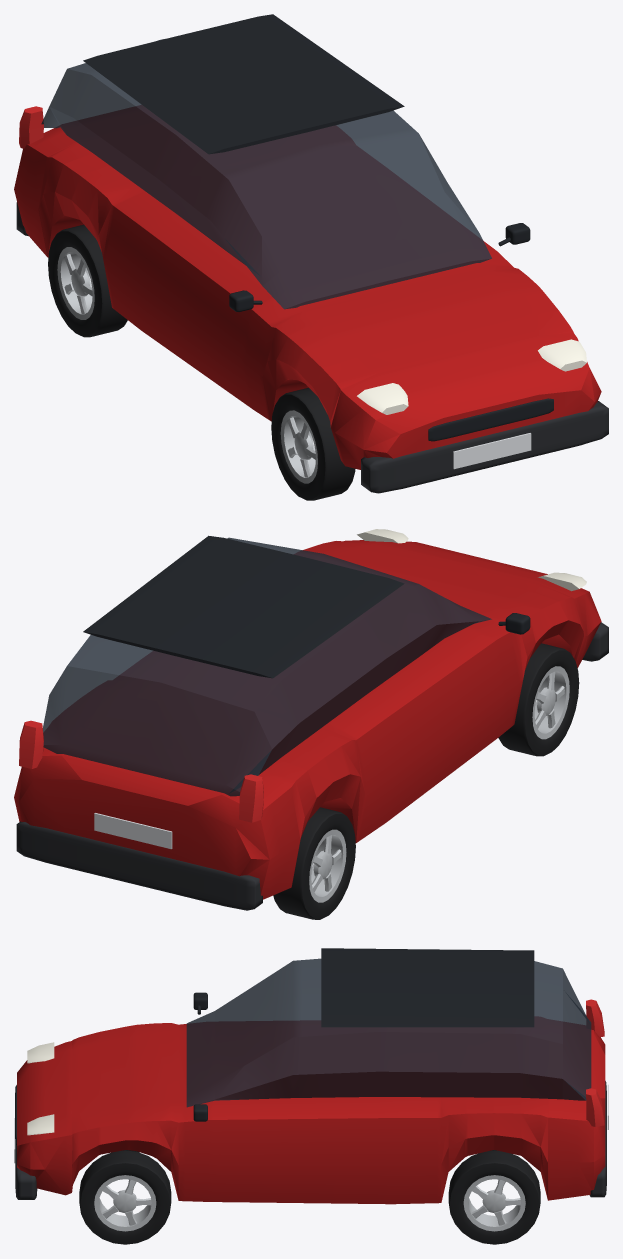
The model's file is car.glb.
The picture shows the model from 3 angles, top to bottom: view 1: azimuth 30°, elevation 25°; view 2: azimuth 150°, elevation 25°; view 3: azimuth 270°, elevation 25°; orthographic projection. The views are drawn at different scales.
Visible parts, largest first — view 1: traveler_car_parked, front_right_wheel, rear_right_wheel; view 2: traveler_car_parked, rear_right_wheel, front_right_wheel; view 3: traveler_car_parked, front_left_wheel, rear_left_wheel.
Boxes of the visible parts, box(x1,y1,x2,y2) form: traveler_car_parked: box(14, 14, 608, 493); front_right_wheel: box(271, 387, 355, 500); rear_right_wheel: box(48, 224, 127, 337); traveler_car_parked: box(14, 529, 608, 910); rear_right_wheel: box(273, 807, 355, 919); front_right_wheel: box(498, 643, 579, 756); traveler_car_parked: box(14, 948, 608, 1204); front_left_wheel: box(79, 1150, 171, 1244); rear_left_wheel: box(448, 1150, 540, 1244).
Size of the model in its own units: 1.98 by 1.62 by 4.19.
